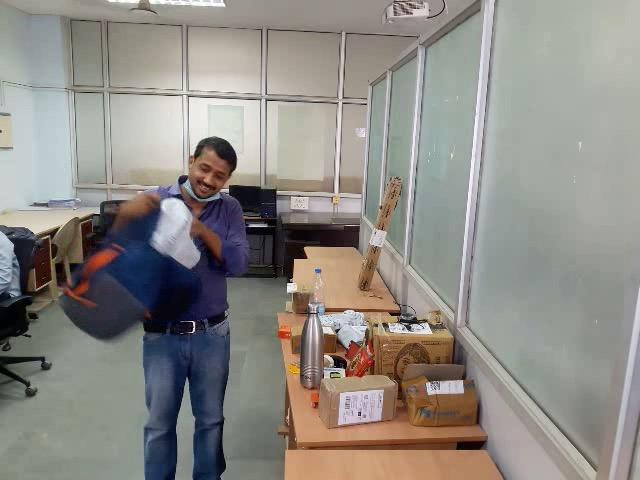shoplifting: (60, 185, 261, 362)
